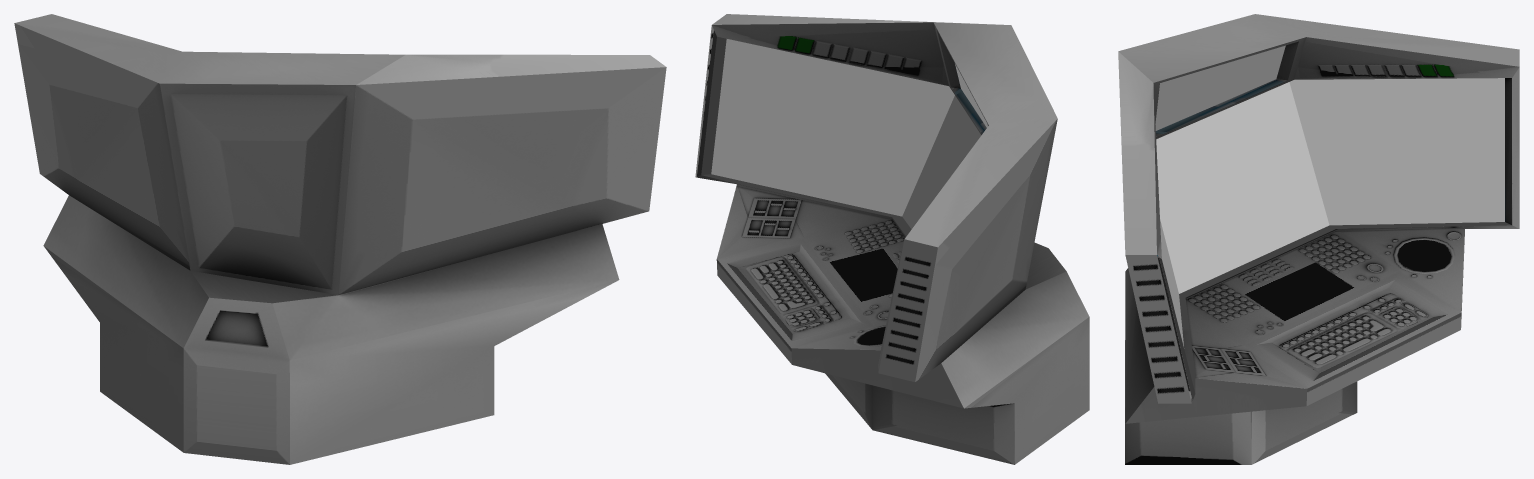
File: ScifiCornerTerminal.fbx
3 renders of one model, left to right at view 1: azimuth 30°, elevation 25°; view 2: azimuth 150°, elevation 25°; view 3: azimuth 270°, elevation 25°, orthographic. The views are drawn at different scales.
Parts seen in each view (by area): view 1: Cube.008; view 2: Cube.008; view 3: Cube.008.
Part boxes in pixels (x1,y1,x2,y2): Cube.008: (14,14,666,464); Cube.008: (695,14,1089,464); Cube.008: (1118,14,1519,464).
Size of the model in its own units: 396 by 313 by 327.
